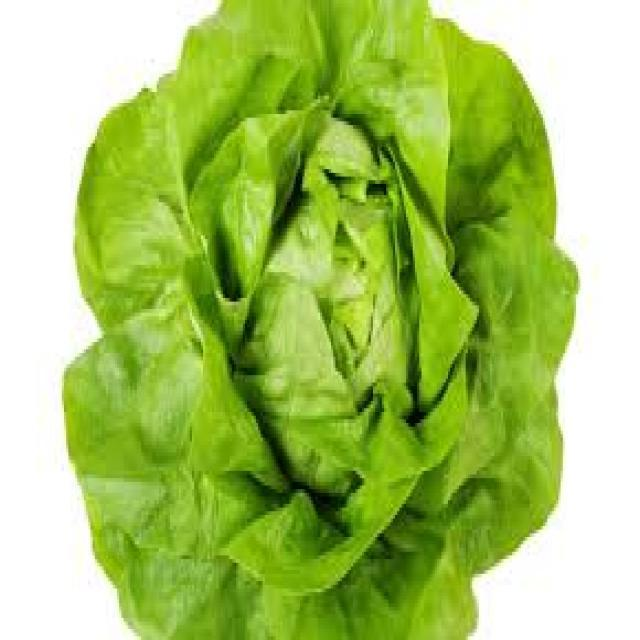Lettuce: (62, 0, 578, 640)
